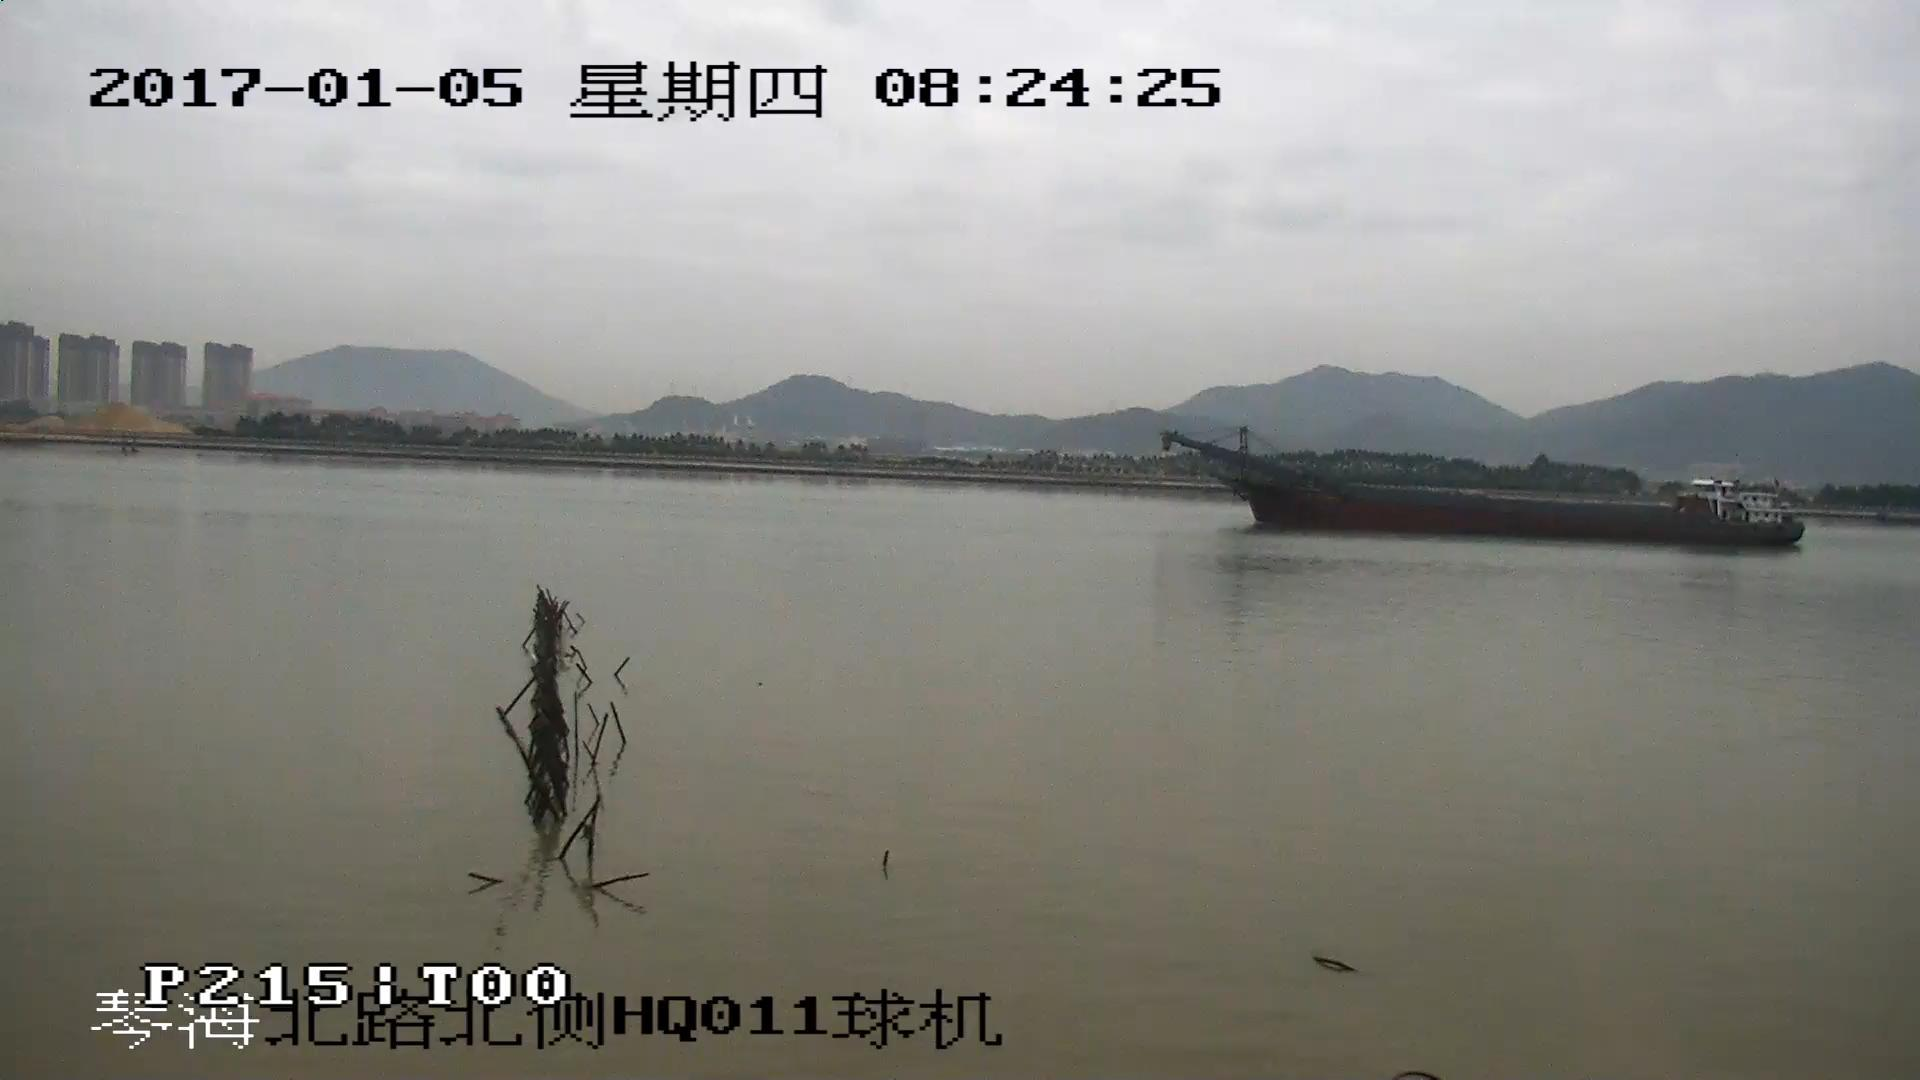Ship: (1166, 431, 1805, 553)
